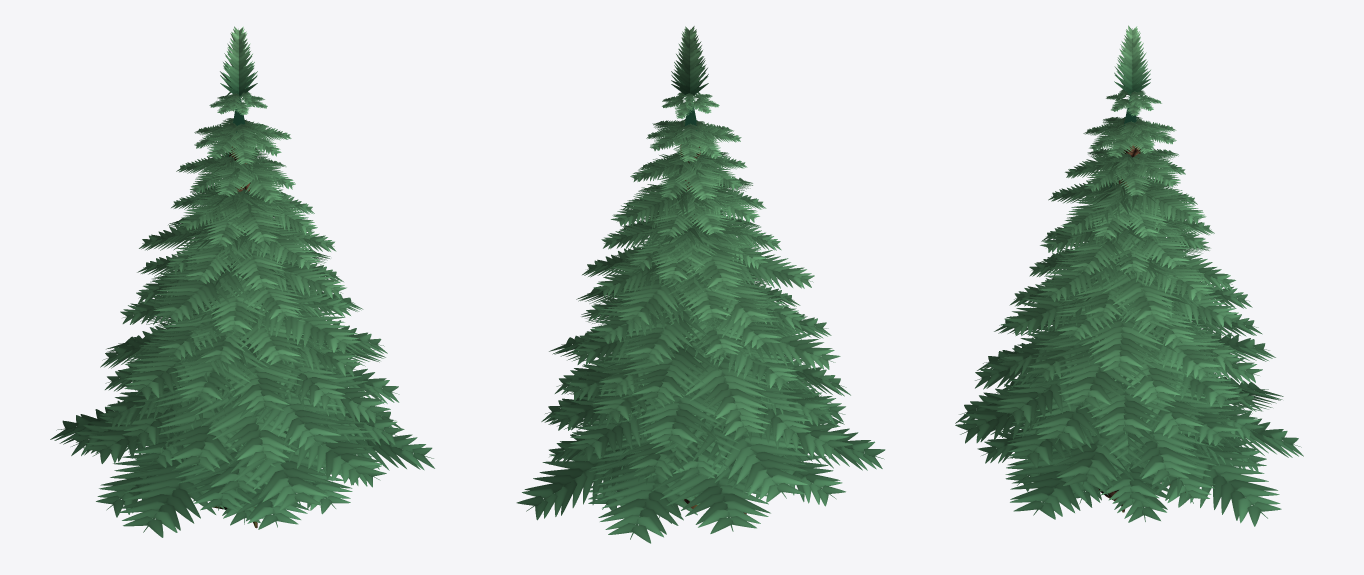
The model's file is pine.gltf.
3 renders of one model, left to right at view 1: azimuth 30°, elevation 25°; view 2: azimuth 150°, elevation 25°; view 3: azimuth 270°, elevation 25°, orthographic. The views are drawn at different scales.
Parts seen in each view (by area): view 1: Canopy_summer; view 2: Canopy_summer; view 3: Canopy_summer.
Part boxes in pixels (x1,y1,x2,y2): Canopy_summer: (50, 26, 434, 537); Canopy_summer: (516, 26, 885, 543); Canopy_summer: (955, 25, 1303, 526).
Bounding box in the file's own units: 5.75 × 6.61 × 5.43.
2 materials, 2 textured.
